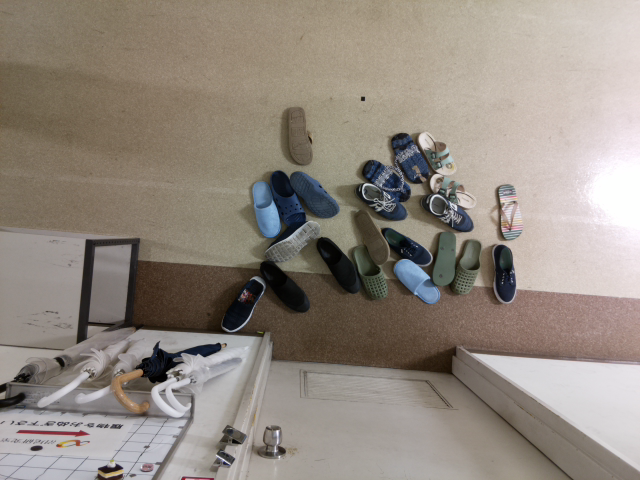Copy of Copy of Copy of Copy of Copy of Copy of Copy of Copy of Copy of Copy of: (359, 155, 414, 205), (391, 257, 443, 307), (420, 169, 480, 212), (379, 223, 433, 270), (416, 191, 475, 234), (353, 178, 408, 224), (485, 240, 520, 307), (414, 127, 458, 179), (388, 130, 430, 184), (448, 235, 484, 297), (492, 181, 526, 242), (427, 230, 460, 288)
Copy of Copy of Copy of Copy of Copy of Copy of Copy of Copy of Copy of shoe: (349, 241, 390, 302)
Copy of Copy of Copy of Copy of Copy of Copy of Copy of Copy of shoe: (351, 205, 395, 266)
Copy of Copy of Copy of Copy of Copy of Copy of Copy of shoe: (260, 214, 326, 266)
Copy of Copy of Copy of Copy of Copy of Copy of shoe: (216, 274, 267, 333)
Copy of Copy of Copy of Copy of Copy of shoe: (257, 258, 313, 315)
Copy of Copy of Copy of Copy of shoe: (312, 233, 362, 294)
Copy of Copy of Copy of shoe: (287, 168, 341, 221)
Copy of Copy of shoe: (247, 178, 284, 240)
Copy of shoe: (267, 169, 306, 230)
shoe: (280, 104, 318, 169)
